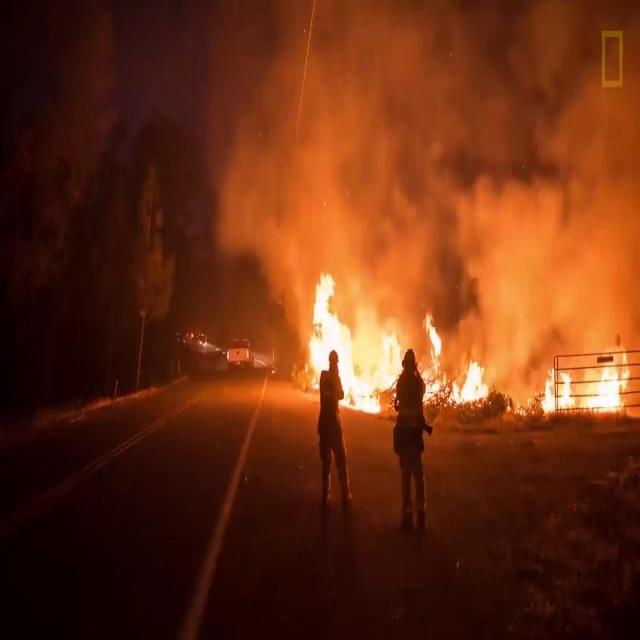Fire: (304, 271, 400, 413), (418, 313, 490, 403), (538, 344, 630, 413)
